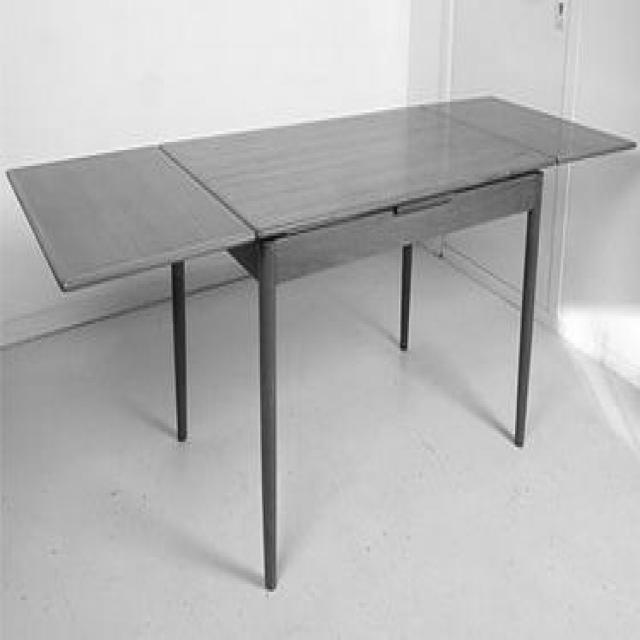table: (8, 90, 636, 592)
